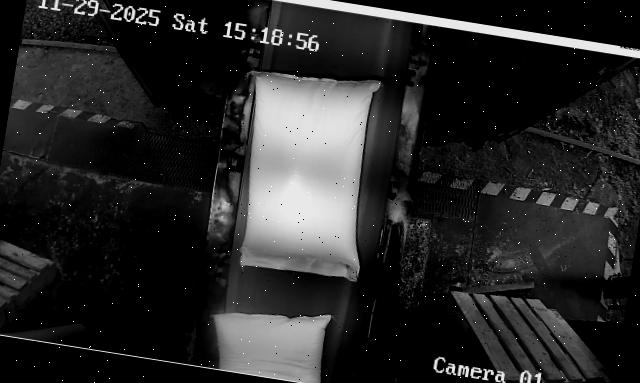bag: (220, 60, 391, 283), (206, 296, 333, 383)
